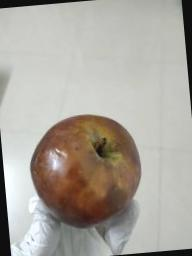Apple Unripe: (13, 106, 162, 240)
